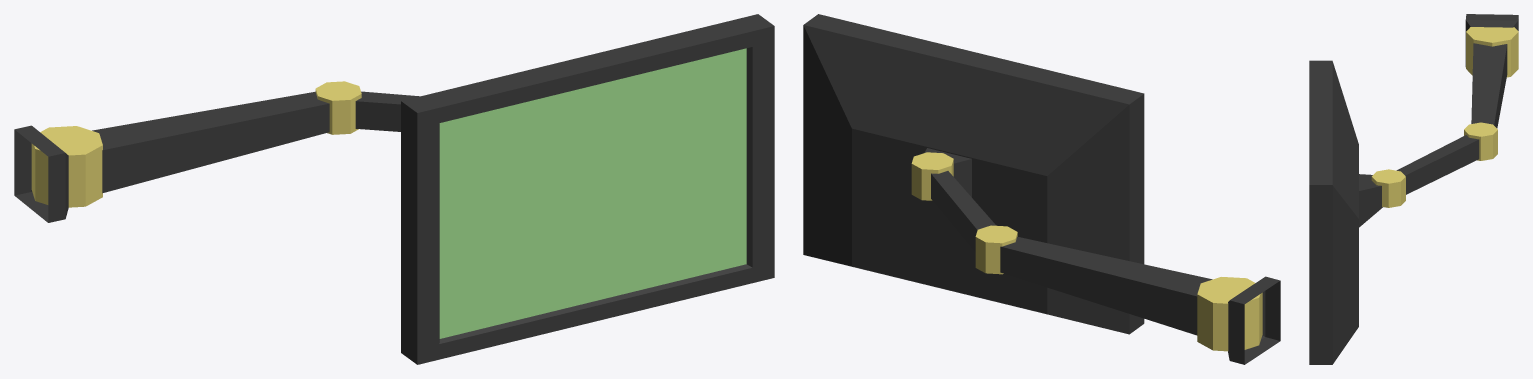
Rendered from wallMountMonitor.fbx.
3 renders of one model, left to right at view 1: azimuth 30°, elevation 25°; view 2: azimuth 150°, elevation 25°; view 3: azimuth 270°, elevation 25°, orthographic. The views are drawn at different scales.
Parts seen in each view (by area): view 1: Wall Mount Monitor; view 2: Wall Mount Monitor; view 3: Wall Mount Monitor.
Boxes of the visible parts, x1,y1,x2,y2 form: Wall Mount Monitor: [14, 14, 774, 364]; Wall Mount Monitor: [803, 14, 1280, 364]; Wall Mount Monitor: [1309, 14, 1518, 364].
Size of the model in its own units: 383 by 158 by 150.
